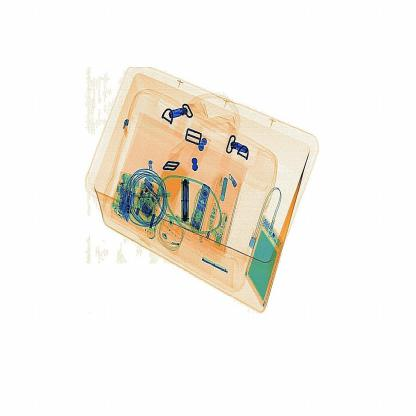scissors: (175, 168, 204, 233)
